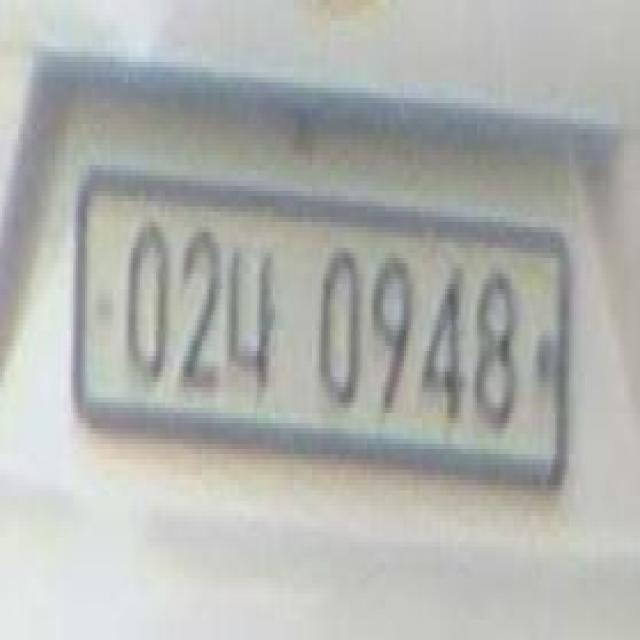illegal_plate: (78, 166, 569, 514)
